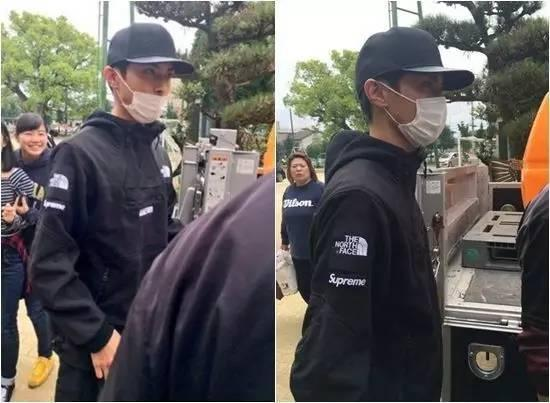NONE: (23, 127, 50, 156), (289, 162, 309, 180)
OK: (371, 75, 449, 146)
WRONG: (106, 58, 173, 125)
